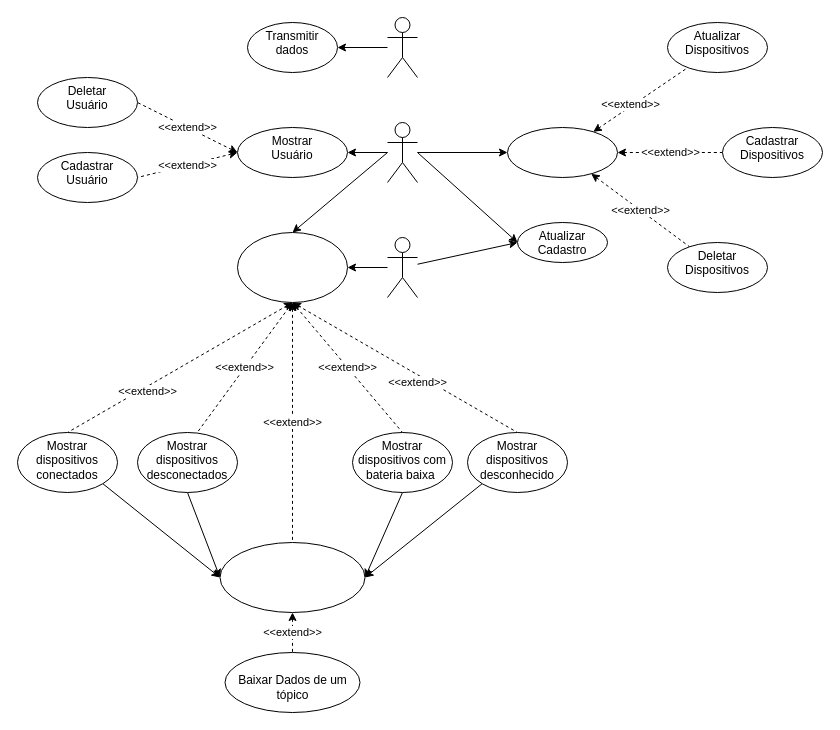
Some shapes in this 840 by 730 pixel diagram are drawn without their labels. The centre of each missing label's shape, as x and y in pixels:
"Dispositivo" belongs at (402,47).
"Mostrar dados coletados pelo dispositivo" belongs at (292,577).
"Mostrar Dispositivos" belongs at (562,152).
"Superusuário" belongs at (402,152).
"Usuário" belongs at (402,267).
"ver overview dos dispositivos" belongs at (292,267).
